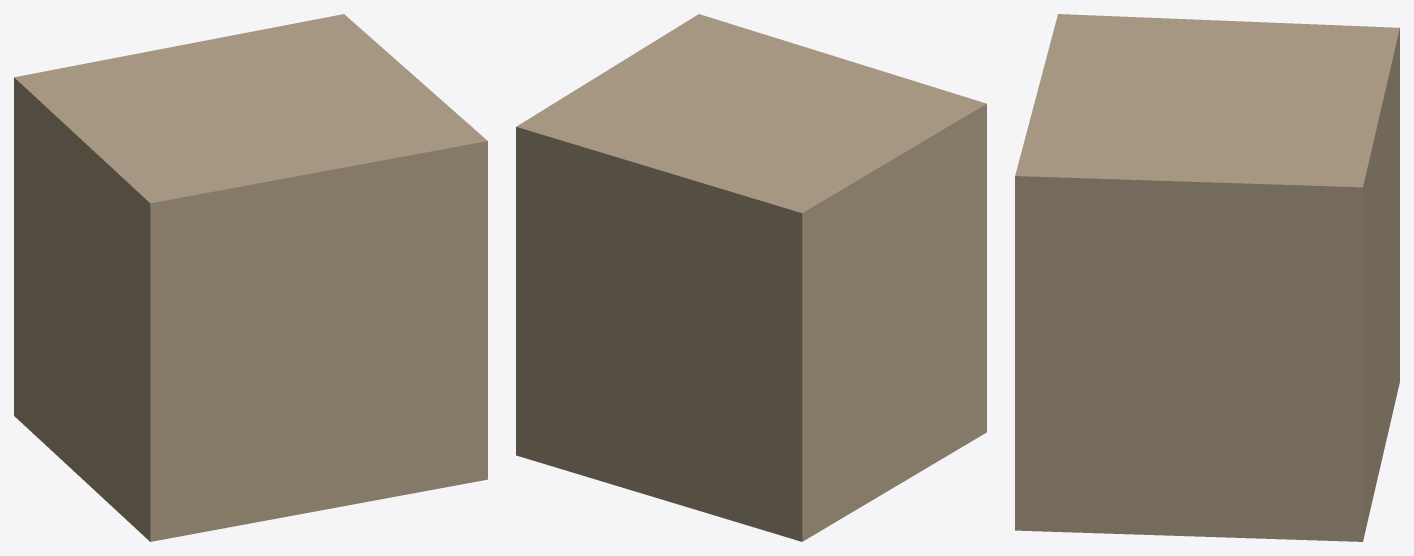
The model's file is bld_99739298.dae.
The picture shows the model from 3 angles, left to right: view 1: azimuth 30°, elevation 25°; view 2: azimuth 150°, elevation 25°; view 3: azimuth 270°, elevation 25°; orthographic projection. The views are drawn at different scales.
Visible parts, largest first — view 1: bld_99739298; view 2: bld_99739298; view 3: bld_99739298.
Boxes of the visible parts, <box> form: bld_99739298: <box>14,14,487,541</box>; bld_99739298: <box>516,14,986,541</box>; bld_99739298: <box>1015,14,1399,541</box>.
Bounding box in the file's own units: 8.39 × 7.87 × 8.
